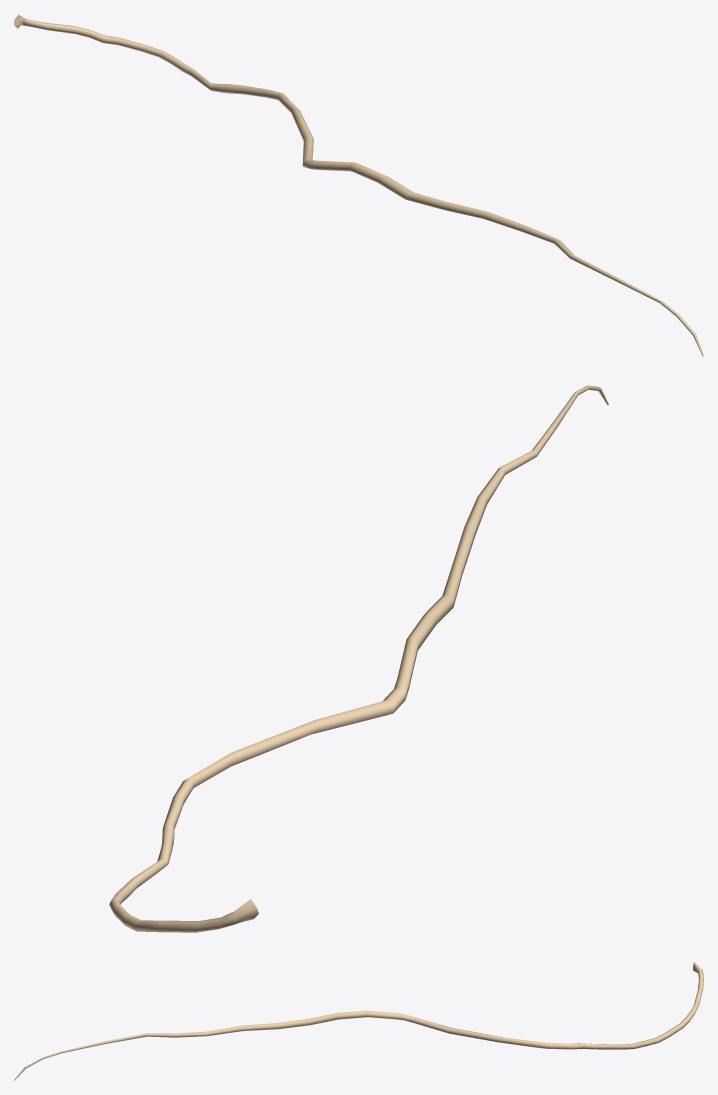
Rendered from L_B_Trochlear_Nerve01.fbx.
The picture shows the model from 3 angles, top to bottom: view 1: azimuth 30°, elevation 25°; view 2: azimuth 150°, elevation 25°; view 3: azimuth 270°, elevation 25°; orthographic projection. The views are drawn at different scales.
Visible parts, largest first — view 1: L_B_Trochlear_Nerve; view 2: L_B_Trochlear_Nerve; view 3: L_B_Trochlear_Nerve.
Part boxes in pixels (box(x1,y1,x2,y2)): L_B_Trochlear_Nerve: box(14, 14, 703, 356); L_B_Trochlear_Nerve: box(109, 385, 608, 932); L_B_Trochlear_Nerve: box(14, 961, 703, 1080).
Bounding box in the file's own units: 2.17 × 0.5383 × 7.84.
